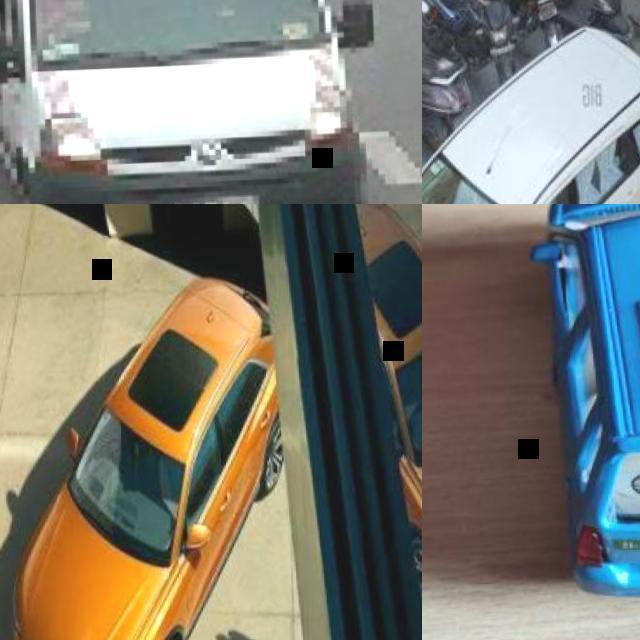car: (4, 271, 285, 639)
